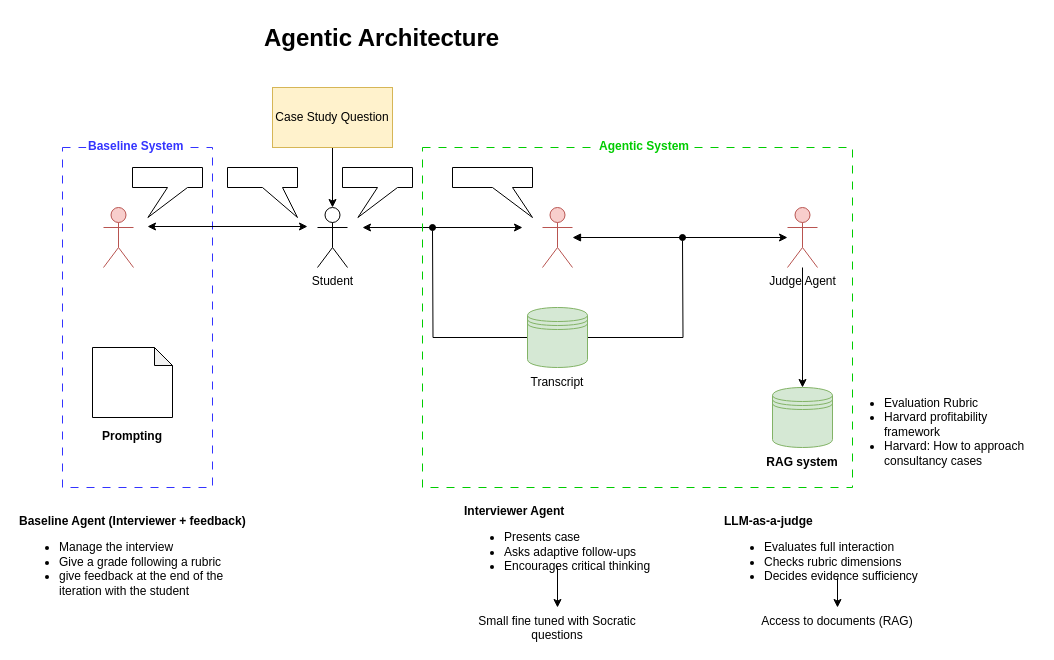
The diagram is 1054 pixels wide and 660 high, and some of its shapes have lost their labels. Here are the shapes that lost their labels. From the top down, the centre of each, then its label:
At (118,237): "Baseline Agent".
At (557,237): "Interview Agent".
At (132,382): "Rubric + Goal".
